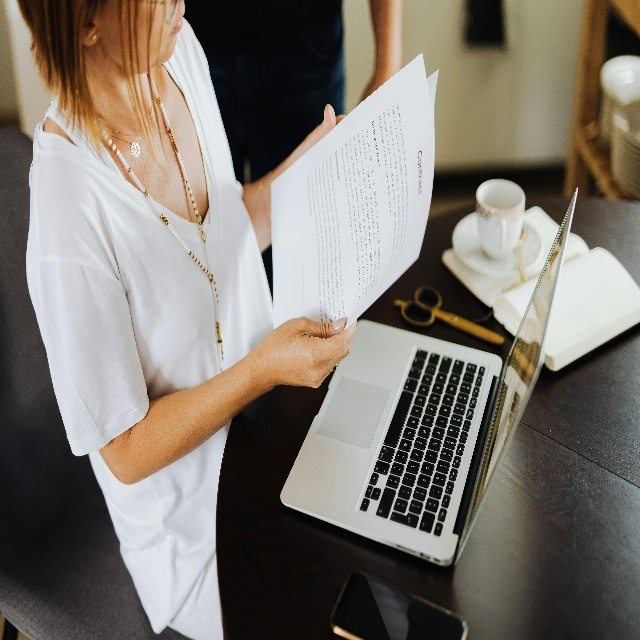Gafas: (162, 0, 180, 23)
Sin_guantes: (269, 315, 356, 389)
